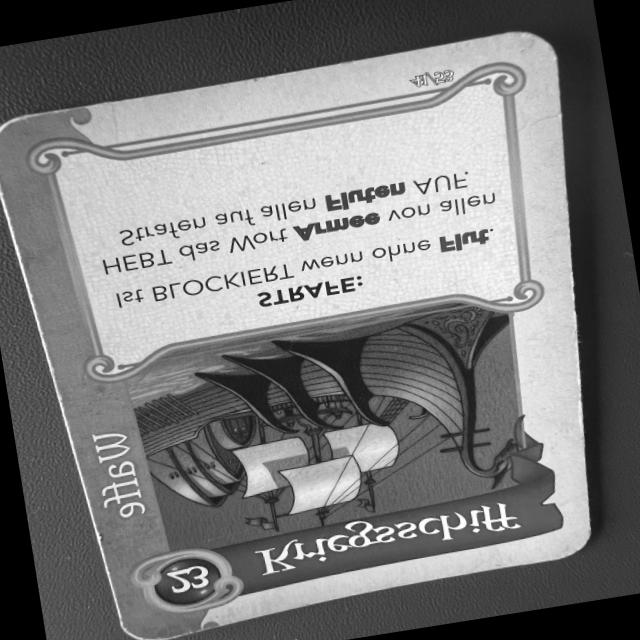Warship: (0, 29, 607, 640)
